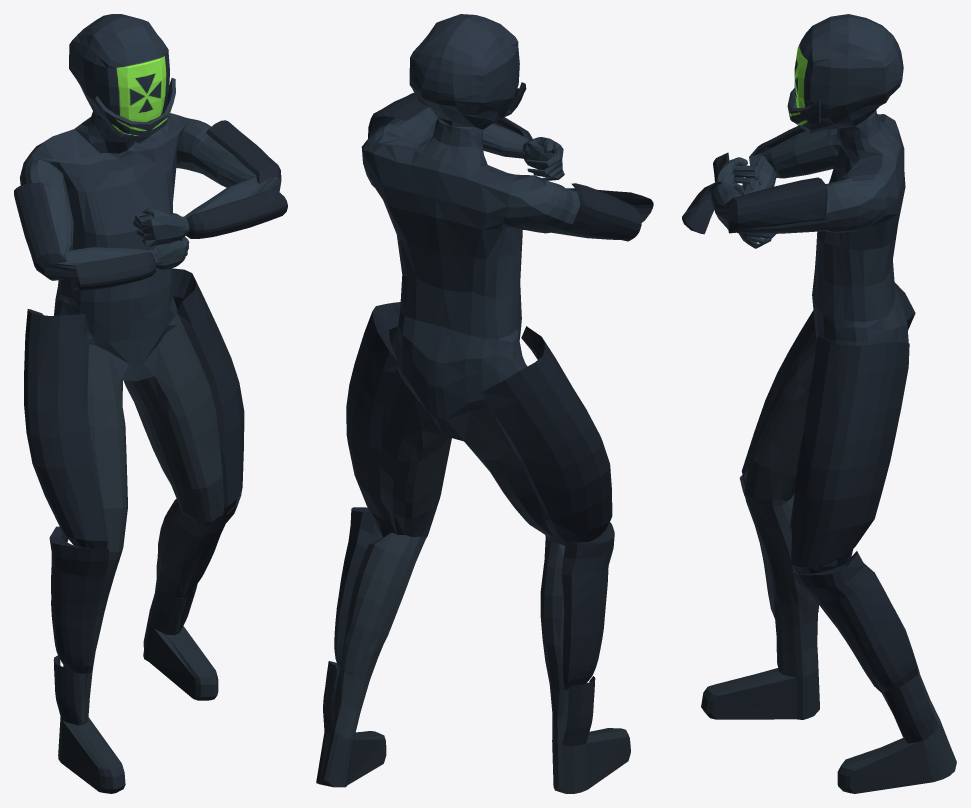
Rendered from Bastion_WB_000016.obj.
3 renders of one model, left to right at view 1: azimuth 30°, elevation 25°; view 2: azimuth 150°, elevation 25°; view 3: azimuth 270°, elevation 25°, orthographic. The views are drawn at different scales.
Parts seen in each view (by area): view 1: Cube.002; view 2: Cube.002; view 3: Cube.002.
Part boxes in pixels (left/top/right/bottom): Cube.002: left=14, top=14, right=287, bottom=793; Cube.002: left=316, top=14, right=653, bottom=793; Cube.002: left=682, top=14, right=956, bottom=793.
Size of the model in its own units: 1.33 by 3.77 by 1.28.
